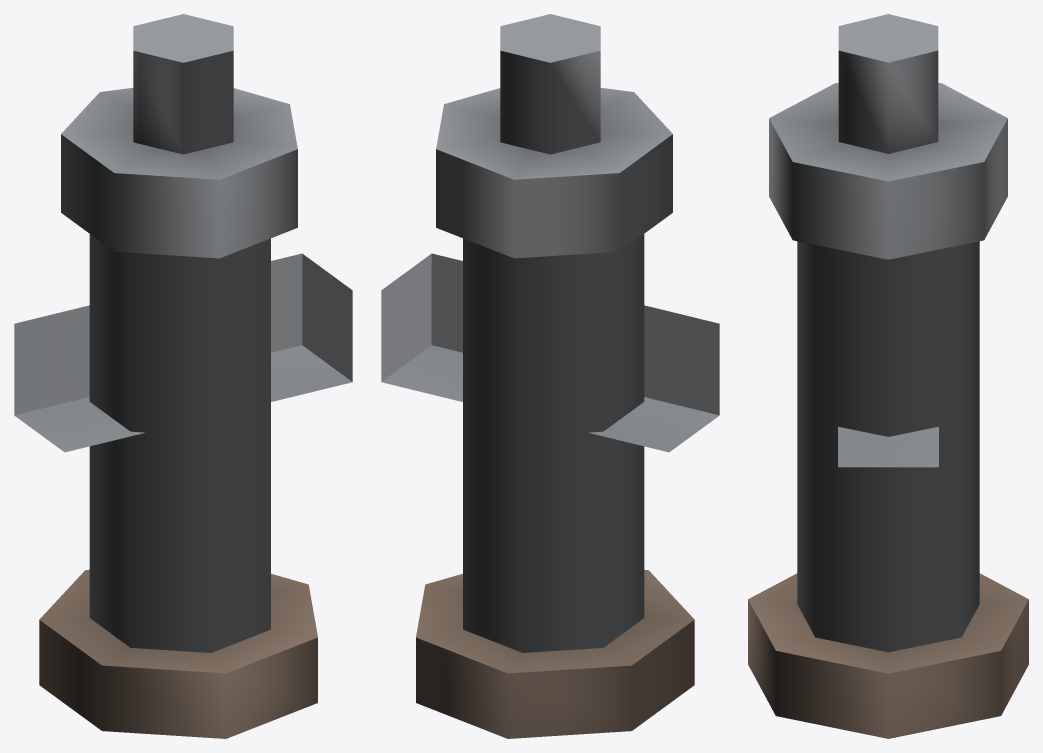
Rendered from hydrant.lod1.glb.
3 renders of one model, left to right at view 1: azimuth 30°, elevation 25°; view 2: azimuth 150°, elevation 25°; view 3: azimuth 270°, elevation 25°, orthographic.
Visible parts, largest first — view 1: props_hydrant.lod1; view 2: props_hydrant.lod1; view 3: props_hydrant.lod1.
Boxes of the visible parts, x1,y1,x2,y2 form: props_hydrant.lod1: (14, 14, 352, 738); props_hydrant.lod1: (381, 14, 719, 738); props_hydrant.lod1: (748, 14, 1028, 738).
Bounding box in the file's own units: 0.46 × 0.98 × 0.3899.
